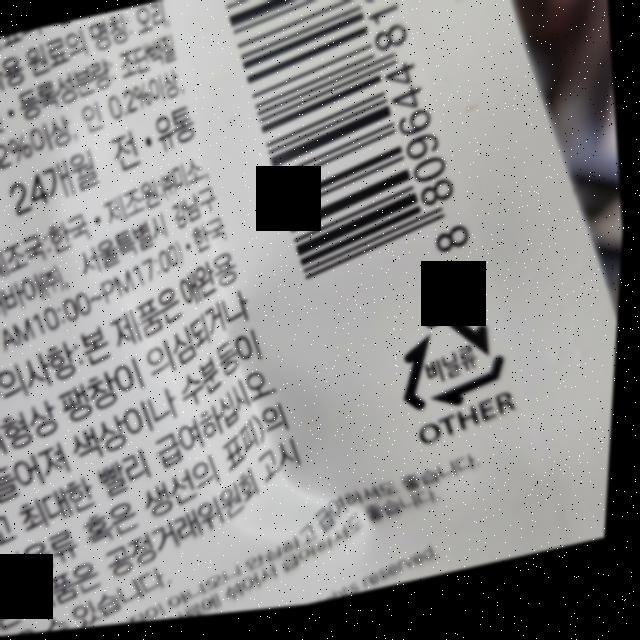Vinyl: (394, 300, 519, 433)
